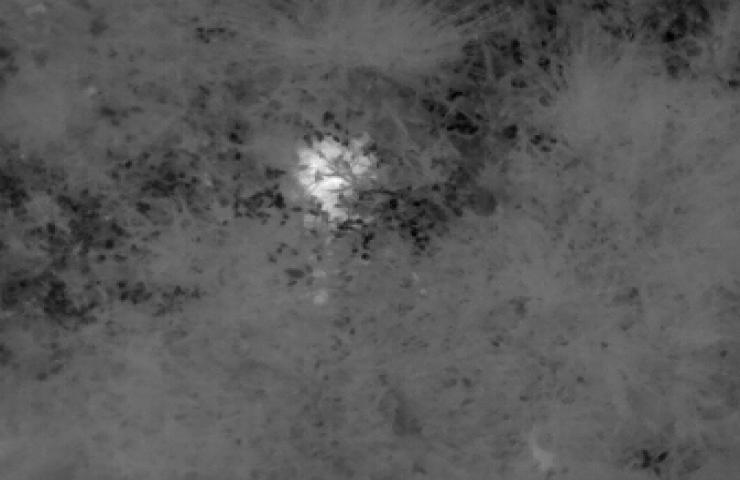landmines: (292, 126, 393, 232)
